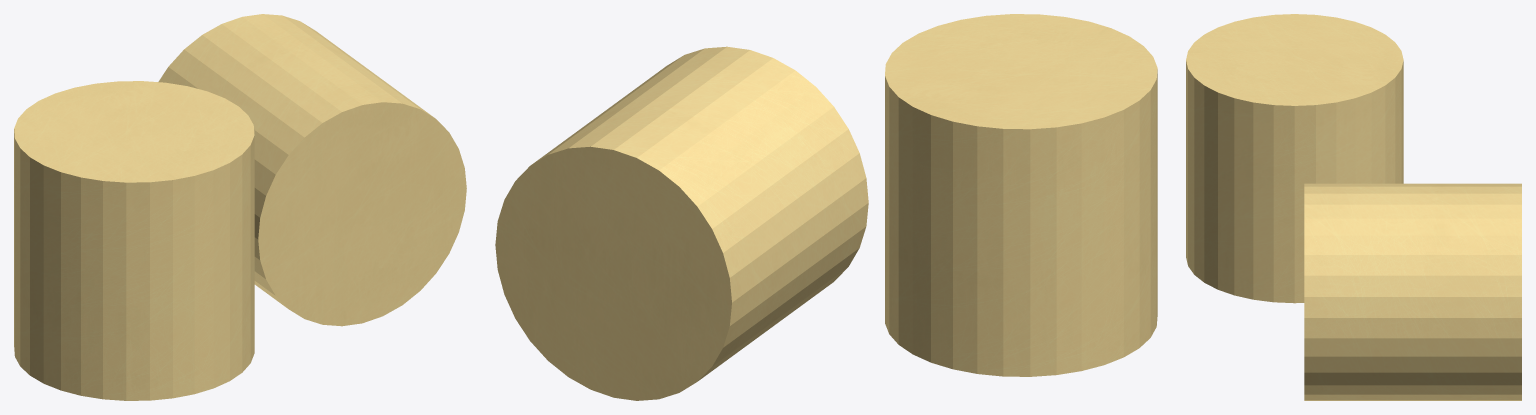
The model's file is jewelry_ring.glb.
The picture shows the model from 3 angles, left to right: view 1: azimuth 30°, elevation 25°; view 2: azimuth 150°, elevation 25°; view 3: azimuth 270°, elevation 25°; orthographic projection. The views are drawn at different scales.
Visible parts, largest first — view 1: Cylinder.001, Cylinder; view 2: Cylinder.001, Cylinder; view 3: Cylinder.001, Cylinder.
Boxes of the visible parts, left/top/right/bottom form: Cylinder.001: left=14, top=81, right=254, bottom=400; Cylinder: left=158, top=14, right=466, bottom=326; Cylinder.001: left=885, top=14, right=1157, bottom=376; Cylinder: left=495, top=46, right=868, bottom=400; Cylinder.001: left=1186, top=14, right=1403, bottom=303; Cylinder: left=1304, top=183, right=1521, bottom=400.
Bounding box in the file's own units: 4.24 × 2.31 × 3.09.
Materials: 1 (1 with a texture image).
